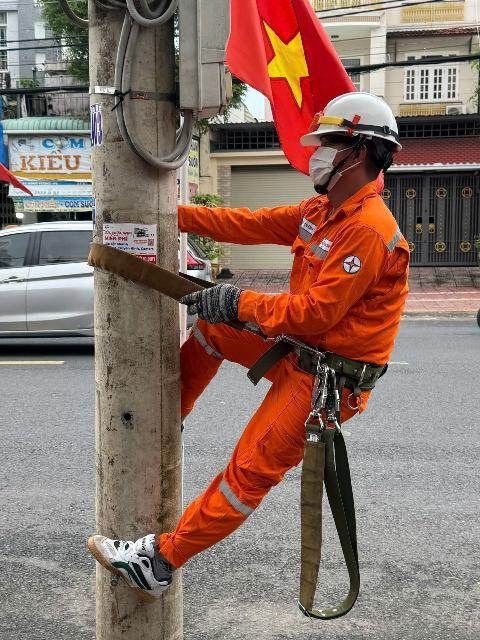gloves: (175, 273, 261, 333)
harness: (232, 308, 420, 405)
helmet: (308, 73, 403, 160)
shoes: (73, 525, 183, 610)
